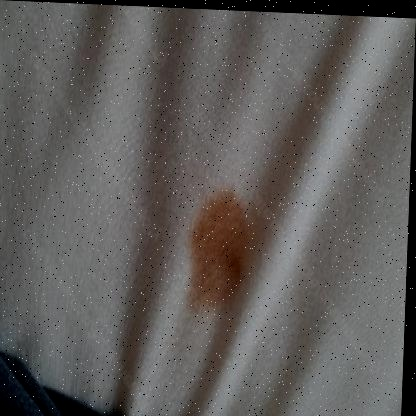kimchi: (179, 194, 262, 315)
